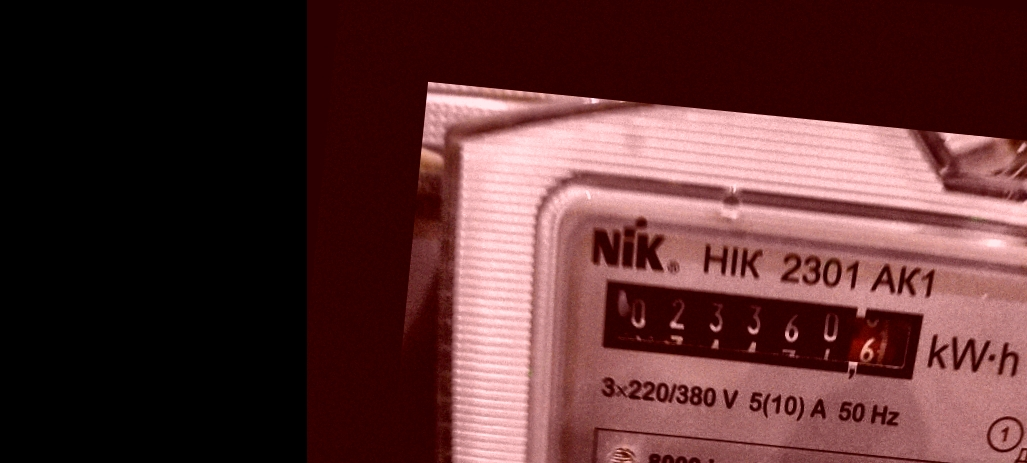0: (626, 293, 652, 330), (819, 308, 844, 345)
2: (666, 295, 691, 332)
3: (705, 299, 728, 335), (744, 301, 765, 337)
6: (781, 308, 804, 344), (857, 331, 878, 365)
screen: (585, 266, 944, 399)
